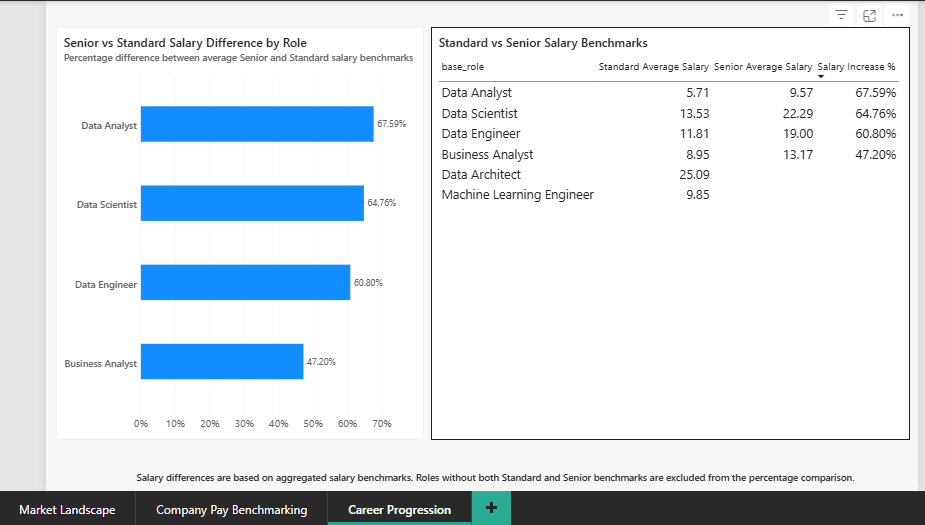

The dashboard page shown, as its layout file describes it:
{"tool":"powerbi","page":{"name":"Career Progression","canvas":[1920,1080],"ordinal":2},"visuals":[{"type":"clusteredBarChart","title":"Senior vs Standard Salary Difference by Role","fields":{"Category":["job_titles.base_role"],"Y":["_Measures.Salary Increase %"]},"box":[22,57.3,811.1,910.3],"z":0},{"type":"textbox","box":[61.7,1035.9,1858,44.1],"z":1000},{"type":"tableEx","title":"Standard vs Senior Salary Benchmarks","fields":{"Values":["job_titles.base_role","_Measures.Standard Average Salary","_Measures.Senior Average Salary","_Measures.Salary Increase %"]},"box":[848.6,57.3,1055.8,910.3],"z":2000}]}

Visuals, with their boxes on the page's 1920x1080 design canvas (x1, y1, x2, y2). These are canvas units, not pixel positions in the 925x525 screenshot, which may show the page scaled, cropped or inside an application window:
"Senior vs Standard Salary Difference by Role" clusteredBarChart: detection(22, 57, 833, 968)
textbox: detection(62, 1036, 1920, 1080)
"Standard vs Senior Salary Benchmarks" tableEx: detection(849, 57, 1904, 968)
